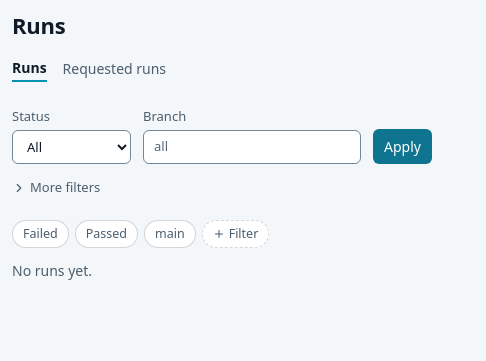
Test case: branch filter applies on submit; empty state offers to clear
Expected: the text "No runs yet." is shown, [12, 261, 92, 280]
In the field labelled "Branch": (252, 147) [143, 130, 361, 164], type "release"
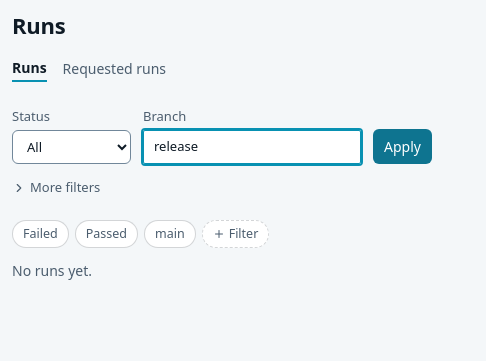
Click the button "Apply": (402, 146) [373, 129, 432, 164]
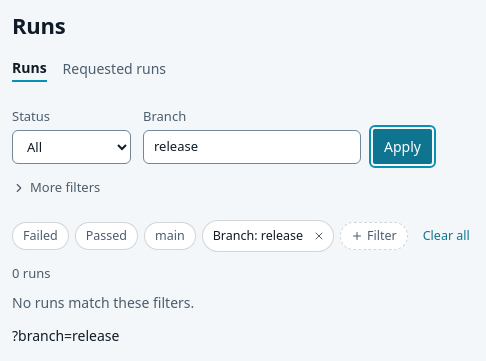
Now the text "No runs match these filters." is shown, box [12, 292, 194, 312]
Now the text with test id "location" reads "?branch=release", box [12, 326, 119, 344]
